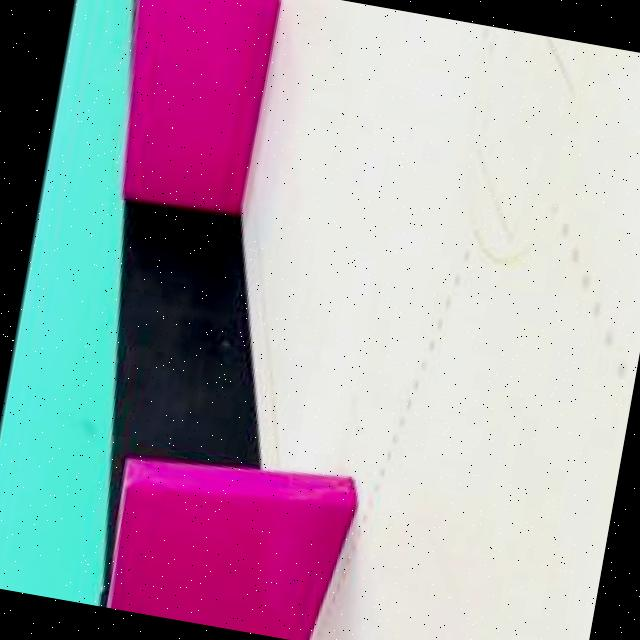xparking: (115, 468, 364, 640), (124, 0, 295, 213)
